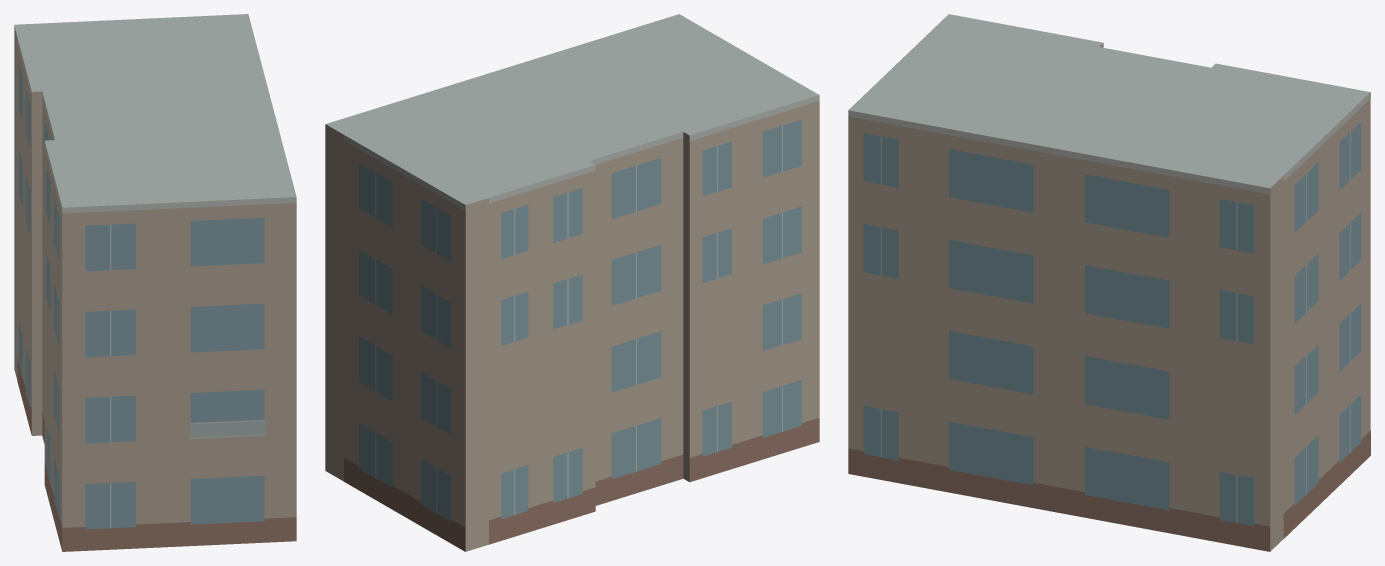
The model's file is survey-upis-32917458.glb.
3 renders of one model, left to right at view 1: azimuth 30°, elevation 25°; view 2: azimuth 150°, elevation 25°; view 3: azimuth 270°, elevation 25°, orthographic. The views are drawn at different scales.
Visible parts, largest first — view 1: survey-upis-32917458.tmp; view 2: survey-upis-32917458.tmp; view 3: survey-upis-32917458.tmp.
Part boxes in pixels (left/top/right/bottom): survey-upis-32917458.tmp: left=14, top=14, right=296, bottom=551; survey-upis-32917458.tmp: left=325, top=14, right=819, bottom=551; survey-upis-32917458.tmp: left=848, top=14, right=1370, bottom=551.
Bounding box in the file's own units: 14.9 × 14.48 × 18.87.
